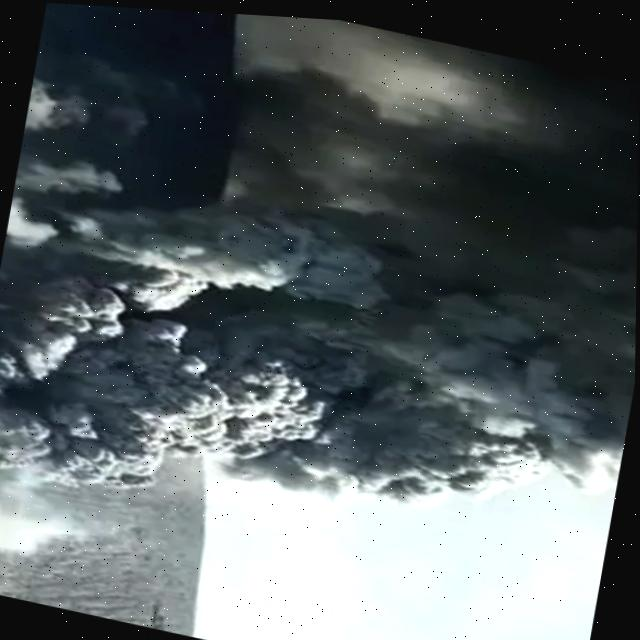Smoke: (0, 0, 640, 594)
